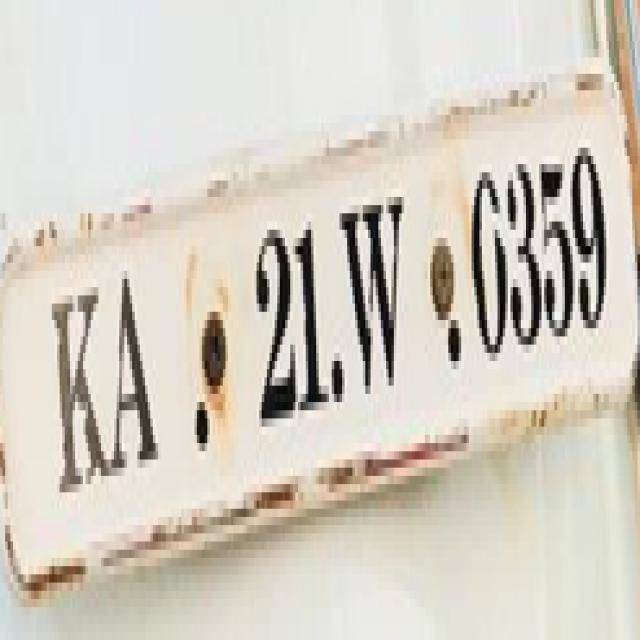0: (465, 149, 513, 394)
1: (292, 181, 332, 428)
2: (248, 199, 299, 431)
3: (503, 139, 545, 370)
5: (537, 128, 575, 356)
9: (570, 123, 614, 354)
A: (104, 248, 167, 495)
K: (46, 266, 109, 521)
W: (331, 165, 408, 418)
